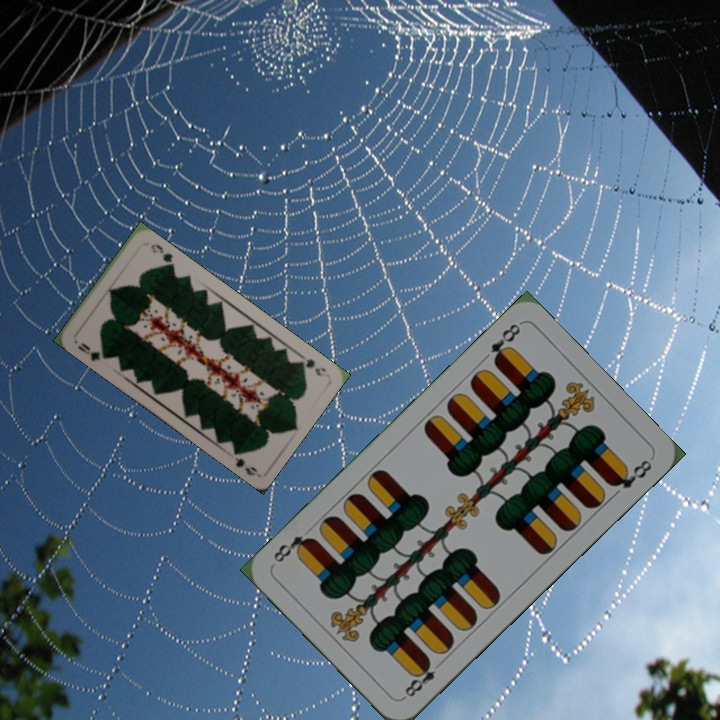E8: (399, 655, 447, 701), (486, 319, 523, 368)
G9: (294, 349, 329, 379), (74, 338, 109, 364)
